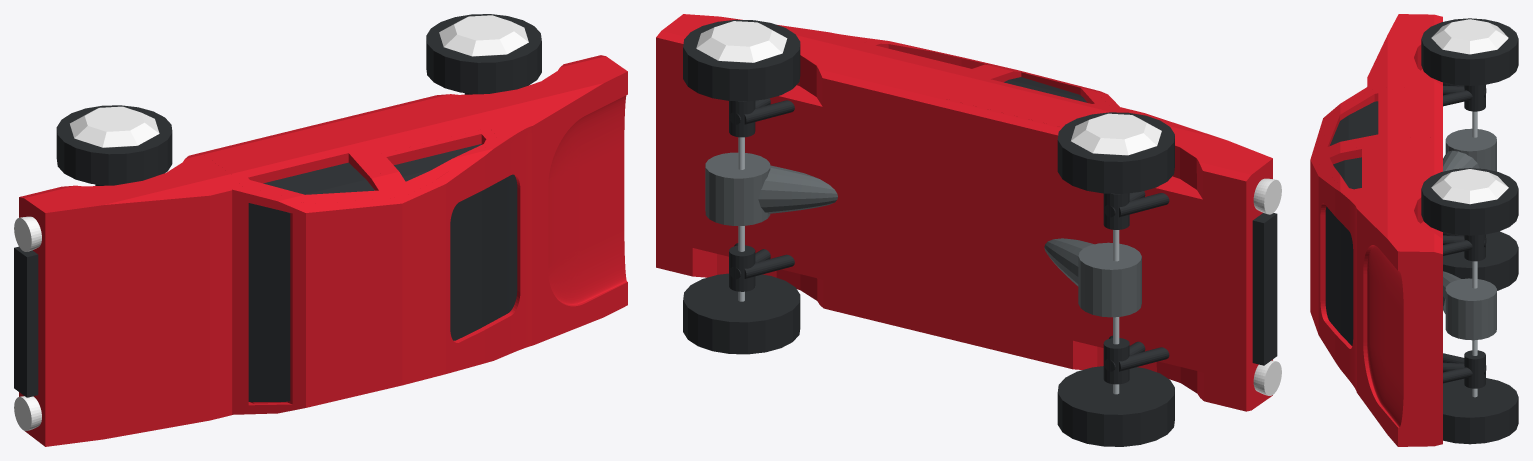
File: tinker.obj
3 views of the same model, side by side, from view 1: azimuth 30°, elevation 25°; view 2: azimuth 150°, elevation 25°; view 3: azimuth 270°, elevation 25° (orthographic). The views are drawn at different scales.
Parts seen in each view (by area): view 1: group_0_15277357, group_0_2829873, group_0_16448250; view 2: group_0_15277357, group_0_2829873, group_0_6383466, group_0_16448250, group_0_12568524; view 3: group_0_15277357, group_0_2829873, group_0_6383466, group_0_16448250, group_0_12568524.
Part boxes in pixels (x1=…): group_0_15277357: x1=19, y1=55, x2=627, y2=446; group_0_2829873: x1=14, y1=14, x2=541, y2=401; group_0_16448250: x1=14, y1=15, x2=528, y2=430; group_0_15277357: x1=656, y1=14, x2=1272, y2=411; group_0_2829873: x1=683, y1=19, x2=1277, y2=446; group_0_6383466: x1=705, y1=152, x2=1141, y2=317; group_0_16448250: x1=696, y1=21, x2=1281, y2=395; group_0_12568524: x1=738, y1=137, x2=1119, y2=394; group_0_15277357: x1=1310, y1=14, x2=1442, y2=446; group_0_2829873: x1=1325, y1=18, x2=1518, y2=444; group_0_6383466: x1=1443, y1=128, x2=1496, y2=340; group_0_16448250: x1=1431, y1=19, x2=1508, y2=204; group_0_12568524: x1=1472, y1=111, x2=1477, y2=397.
Bounding box in the file's own units: 53 × 25.9 × 19.28.
